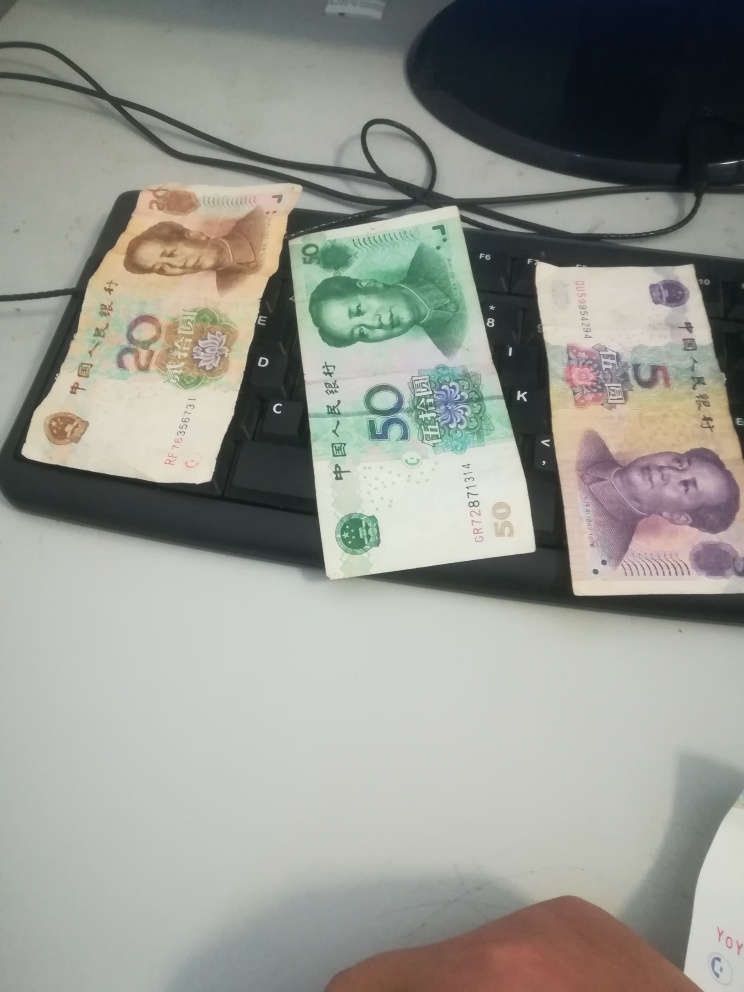rmb: (287, 218, 535, 578), (18, 182, 294, 480), (529, 251, 744, 608)
